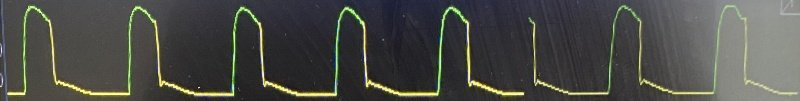normal_pressure: (7, 0, 800, 101)
